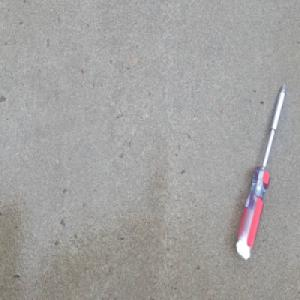Screwdriver: (234, 78, 287, 263)
